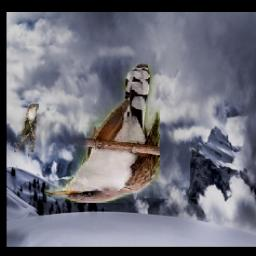Cuckoo: (45, 63, 161, 203), (15, 105, 40, 153)
